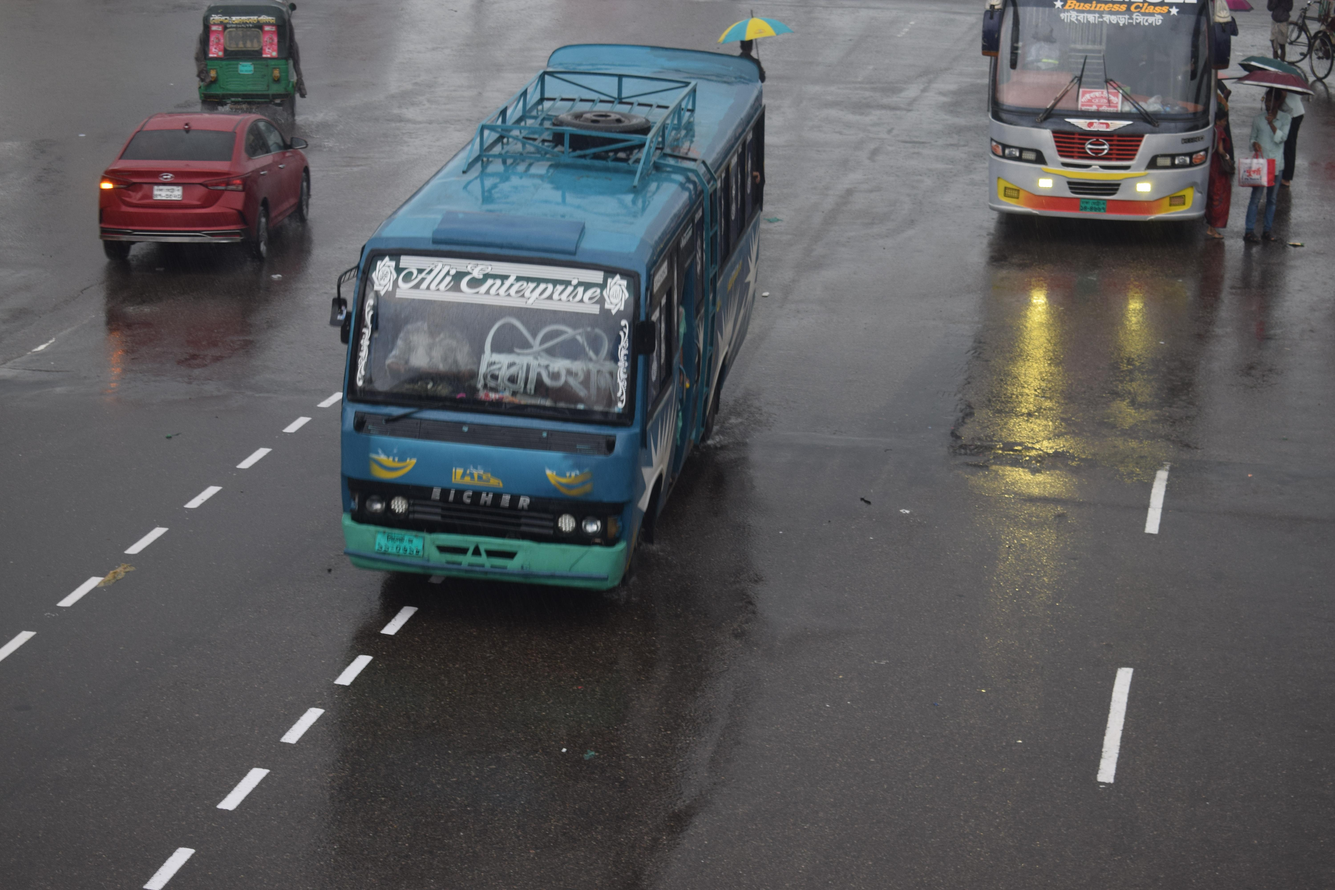Bus: (261, 22, 841, 716), (955, 0, 1335, 245)
Car: (71, 93, 318, 320)
